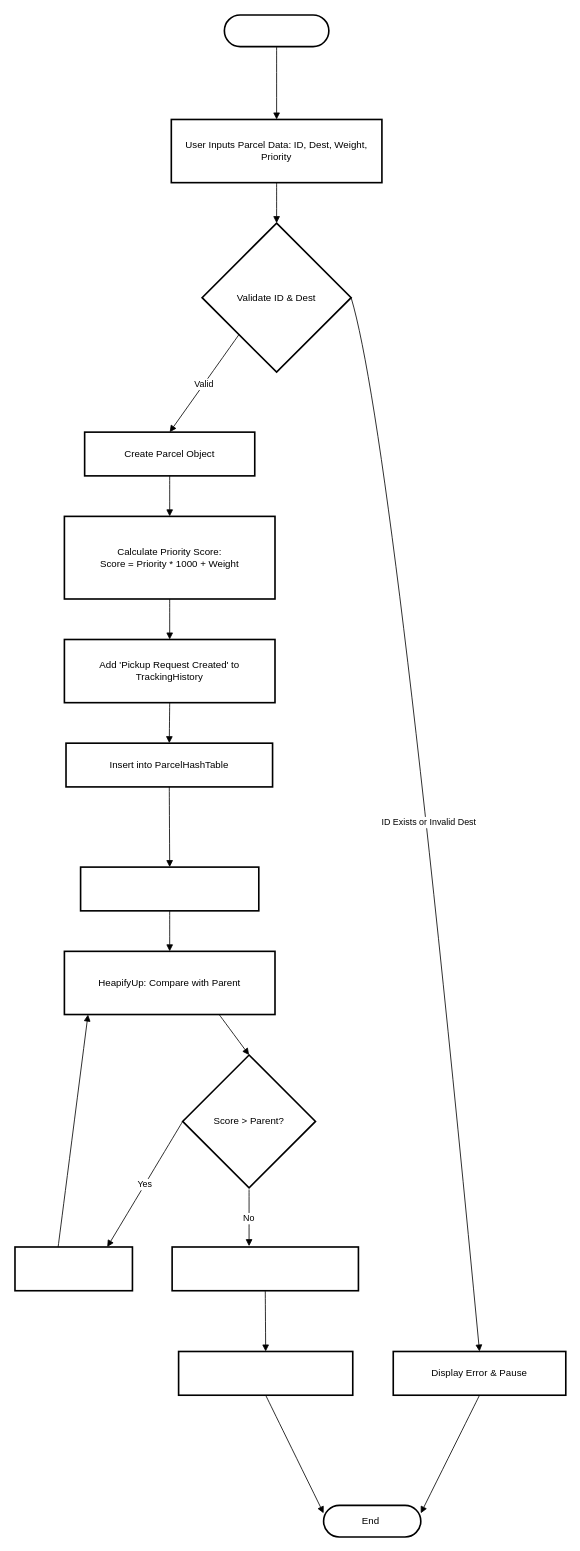
Some shapes in this 580 by 1551 pixel diagram are drawn without their labels. Here are the shapes that lost their labels. From the top down, the centre of each, then its label:
(276,30): Start
(169,888): Insert into ParcelHeap
(73,1268): Swap Nodes
(265,1268): Heap Property Restored
(265,1373): Log Undo Action 'ADD'
